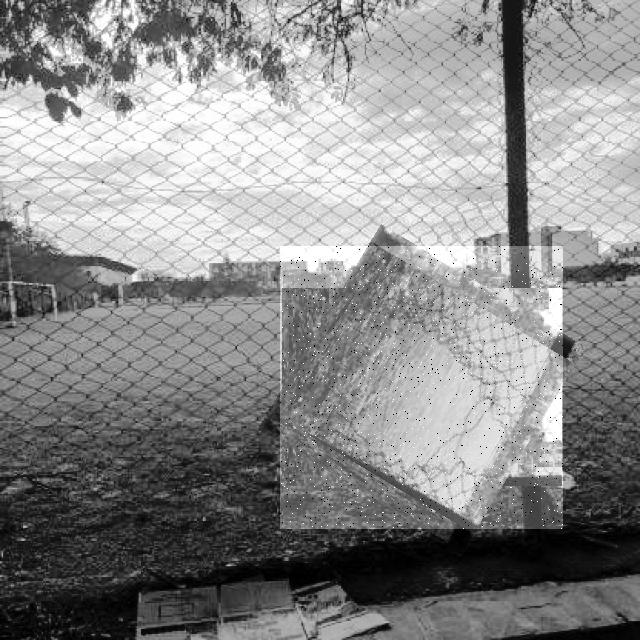anomaly-fence: (280, 246, 563, 529)
